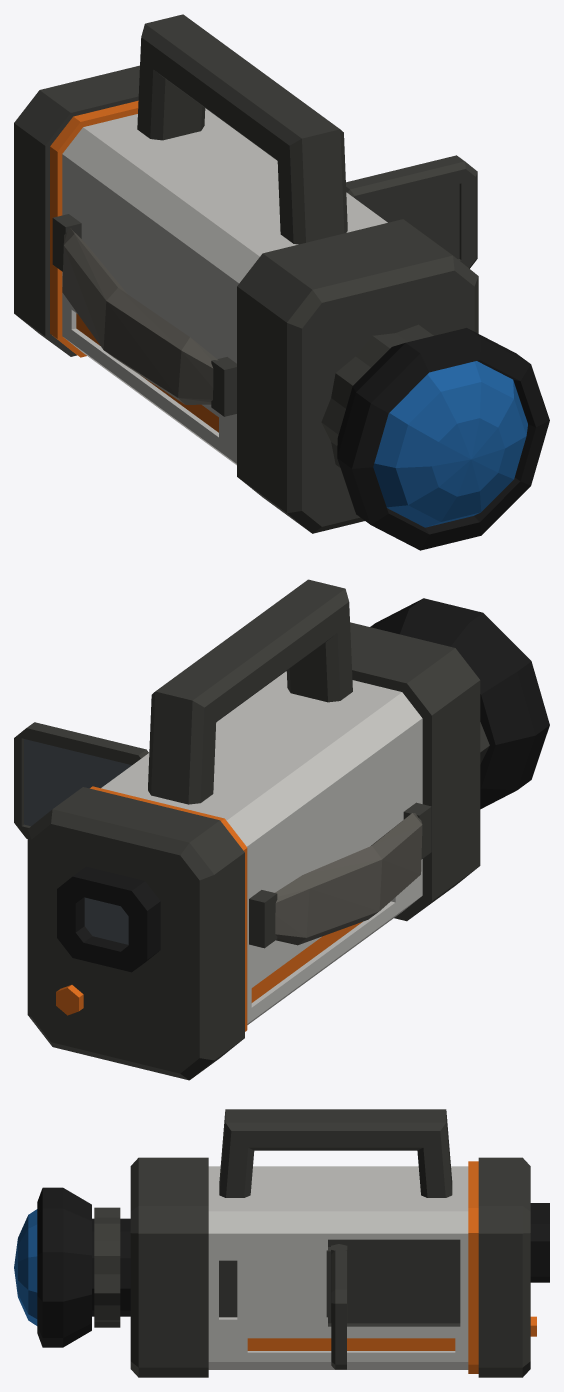
File: telescope.glb
The picture shows the model from 3 angles, top to bottom: view 1: azimuth 30°, elevation 25°; view 2: azimuth 150°, elevation 25°; view 3: azimuth 270°, elevation 25°; orthographic projection. The views are drawn at different scales.
Visible parts, largest first — view 1: body, fisheye-dome, fisheye-bell, screen-panel; view 2: body, fisheye-bell, screen-panel; view 3: body, fisheye-bell, fisheye-dome, screen-panel.
Part boxes in pixels (box(x1,y1,x2,y2)): body: box(14, 14, 478, 533); fisheye-dome: box(373, 361, 527, 527); fisheye-bell: box(337, 328, 549, 550); screen-panel: box(346, 155, 477, 268); body: box(27, 579, 489, 1080); fisheye-bell: box(370, 598, 549, 809); screen-panel: box(14, 722, 148, 838); body: box(92, 1109, 549, 1377); fisheye-bell: box(37, 1187, 91, 1347); fisheye-dome: box(14, 1209, 37, 1325); screen-panel: box(331, 1244, 347, 1369).
Bounding box in the file's own units: 0.232 × 0.202 × 0.413.
